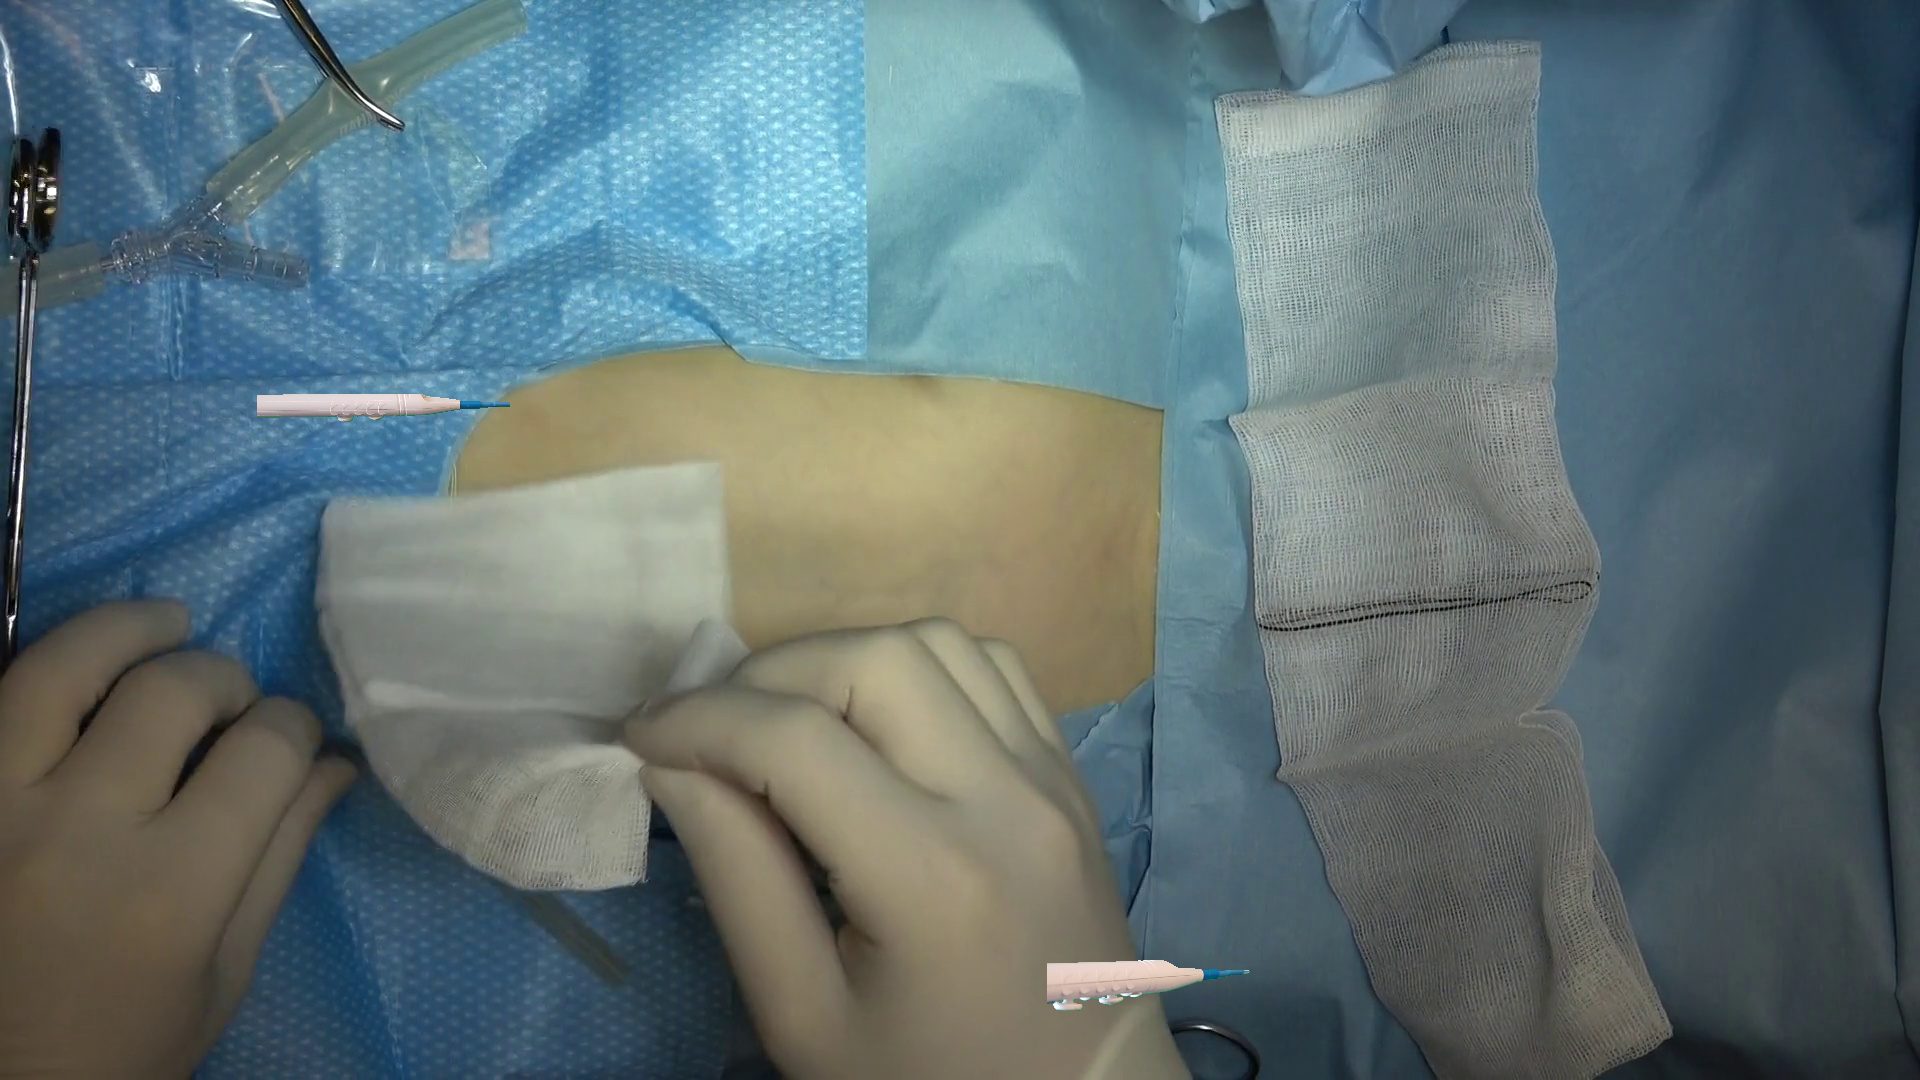diathermy: (1047, 960, 1250, 1010), (257, 394, 509, 421)
